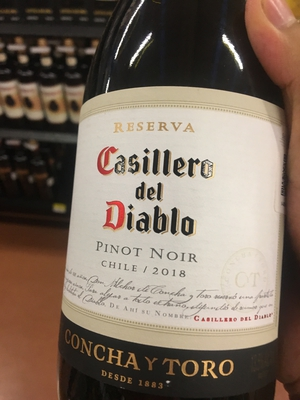casillero del diablo pinot noir: (55, 12, 289, 400)
